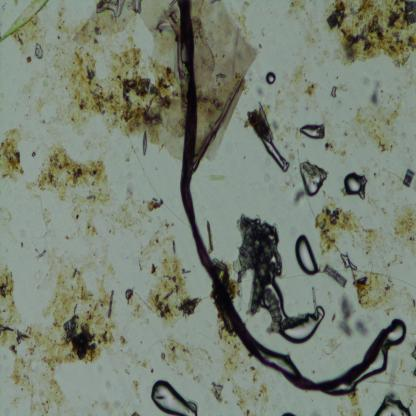Air bubble: (334, 319, 405, 396), (149, 376, 196, 416), (280, 304, 325, 345), (294, 235, 320, 276), (261, 139, 291, 174), (300, 162, 329, 198), (377, 394, 413, 416), (344, 171, 369, 201), (299, 120, 326, 140), (340, 252, 357, 271), (265, 70, 276, 84), (330, 85, 337, 99)
Background material: (47, 0, 185, 153), (0, 258, 116, 413), (193, 0, 258, 182), (39, 143, 170, 233), (140, 216, 202, 325), (234, 212, 292, 328), (325, 0, 416, 70), (210, 322, 271, 416), (347, 74, 404, 152), (313, 202, 379, 259), (349, 266, 413, 319), (17, 67, 67, 131), (0, 0, 48, 65), (160, 333, 210, 386), (0, 126, 30, 185), (385, 199, 416, 255), (285, 0, 321, 48), (116, 332, 155, 376), (214, 255, 249, 296), (335, 296, 368, 337), (286, 67, 318, 104), (337, 387, 365, 416), (123, 288, 143, 318), (323, 139, 347, 160), (0, 203, 14, 234), (205, 217, 215, 254), (31, 245, 50, 262), (402, 166, 415, 189), (290, 186, 307, 202), (279, 411, 297, 416)
Cotton: (178, 1, 388, 393)
Diatom: (323, 266, 348, 290), (257, 103, 273, 139), (141, 129, 148, 157)
